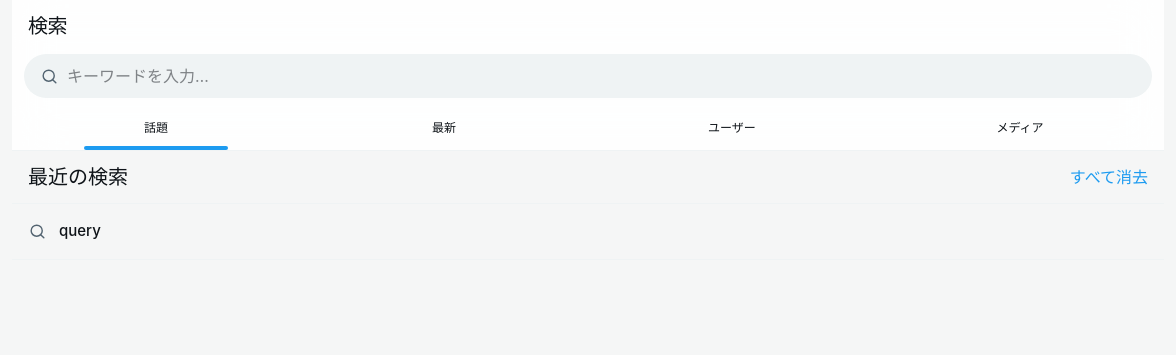
Test: SearchScreen › clears all recent searches for the current profile
Click the button "すべて消去" at (1109, 177), box x1=1070 y1=165 x2=1148 y2=189
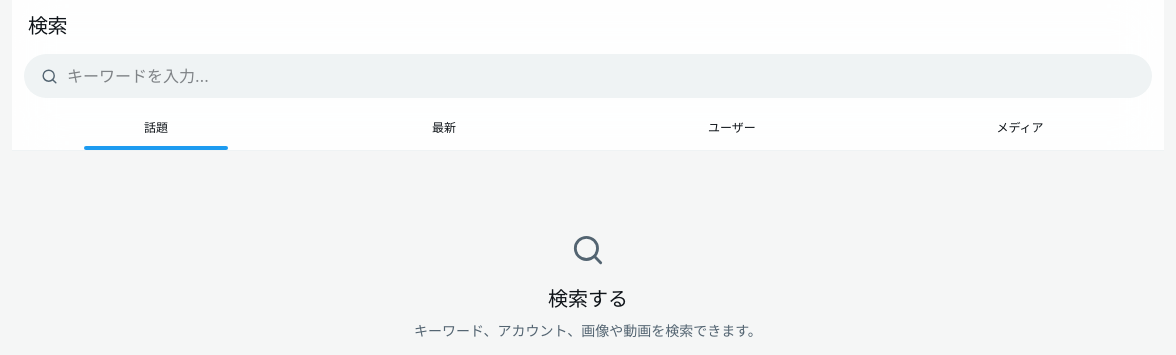
expect the heading "検索する" is shown: met, box x1=548 y1=287 x2=628 y2=311
